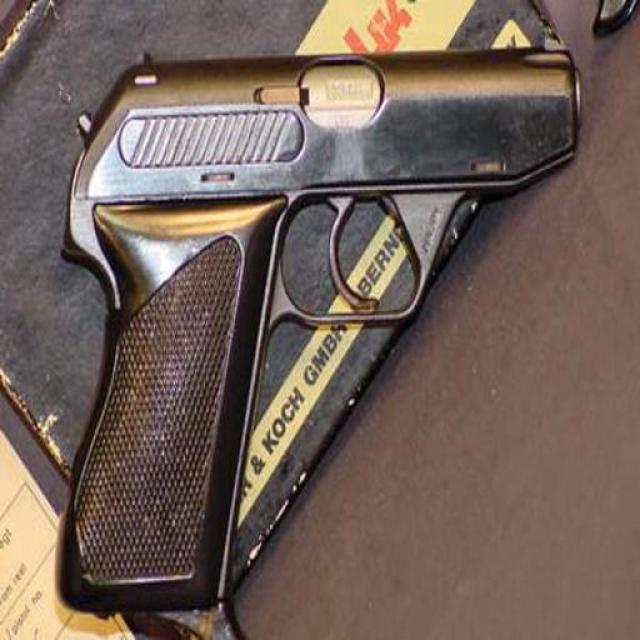pistol: (53, 46, 581, 607)
